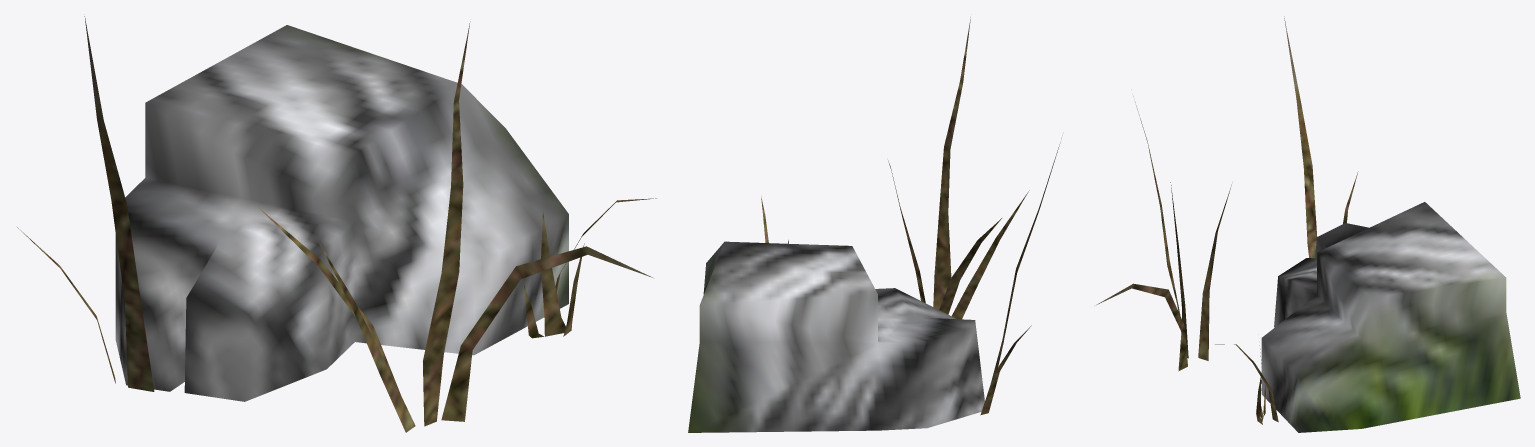
Rendered from RockMushroom1.fbx.
The picture shows the model from 3 angles, left to right: view 1: azimuth 30°, elevation 25°; view 2: azimuth 150°, elevation 25°; view 3: azimuth 270°, elevation 25°; orthographic projection. The views are drawn at different scales.
Parts seen in each view (by area): view 1: RockMushroom1; view 2: RockMushroom1; view 3: RockMushroom1.
Boxes of the visible parts, bbox=[...] form: RockMushroom1: bbox=[17, 16, 656, 432]; RockMushroom1: bbox=[688, 17, 1061, 432]; RockMushroom1: bbox=[1096, 16, 1520, 432].
Size of the model in its own units: 286 by 227 by 316.
